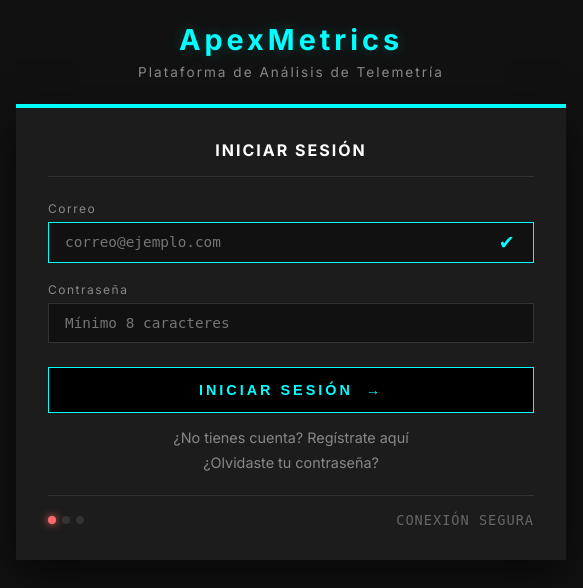
Test: Login — integración con API › muestra error de credenciales cuando la API responde con error
The width and height of the screenshot is (583, 588).
Type "piloto@apex.sim" into the field with placeholder "correo@ejemplo.com" at (291, 242), box [48,222,534,262]
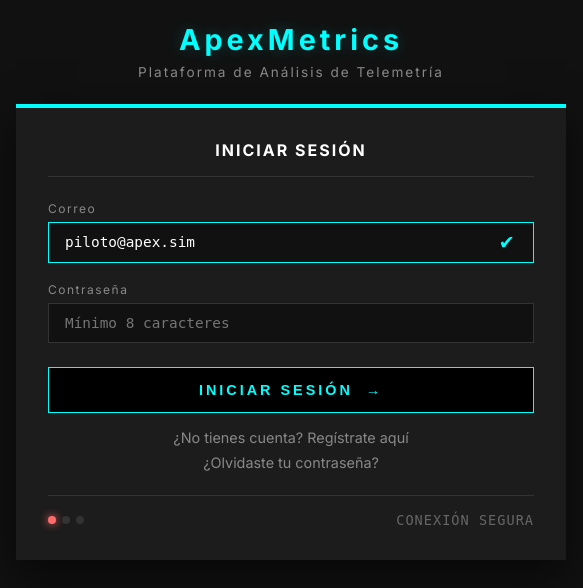
Type "clave_incorrecta_pero_larga" into the password field with placeholder "Mínimo 8 caracteres" at (291, 323), box [48,303,534,344]
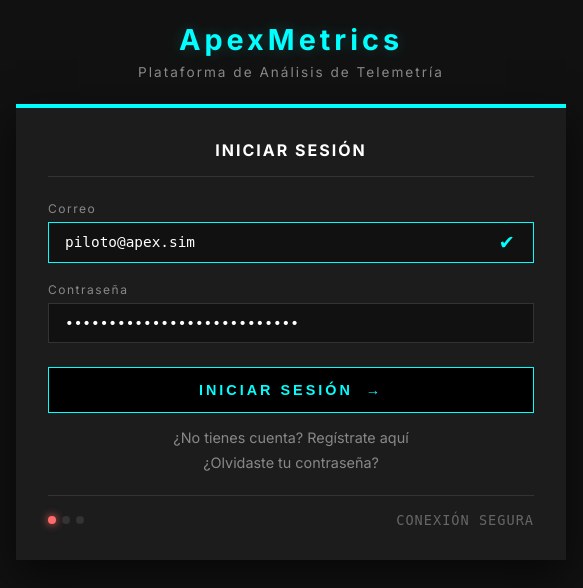
Click the button "INICIAR SESIÓN →" at (291, 390), box [48,368,534,413]
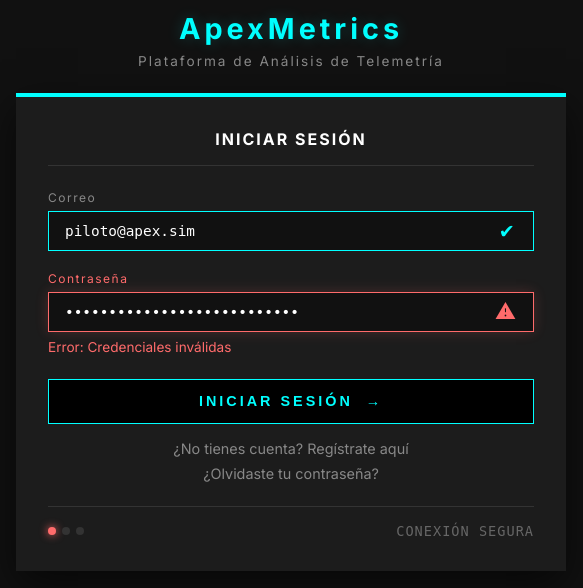
Now the text "Error: Credenciales inválidas" is shown, box [48,339,231,355]
